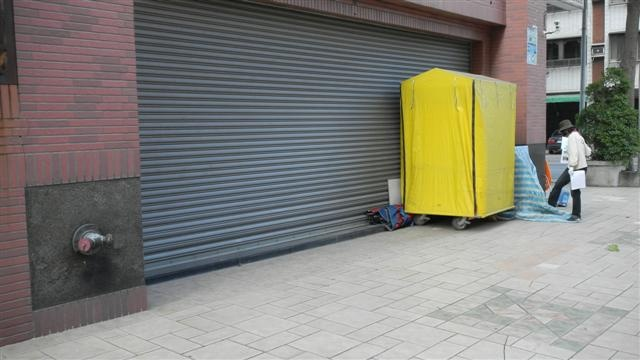plastic_bag: (510, 143, 571, 220)
